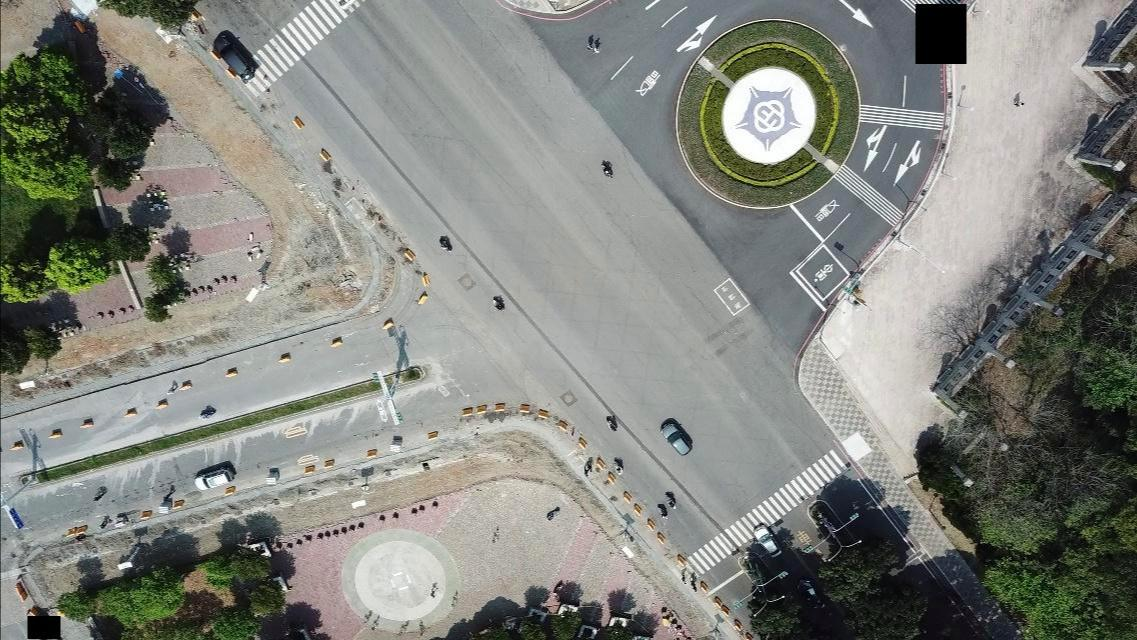vehicle: (212, 34, 257, 82), (659, 421, 693, 457), (793, 578, 825, 612), (194, 466, 234, 491), (752, 525, 782, 558)
